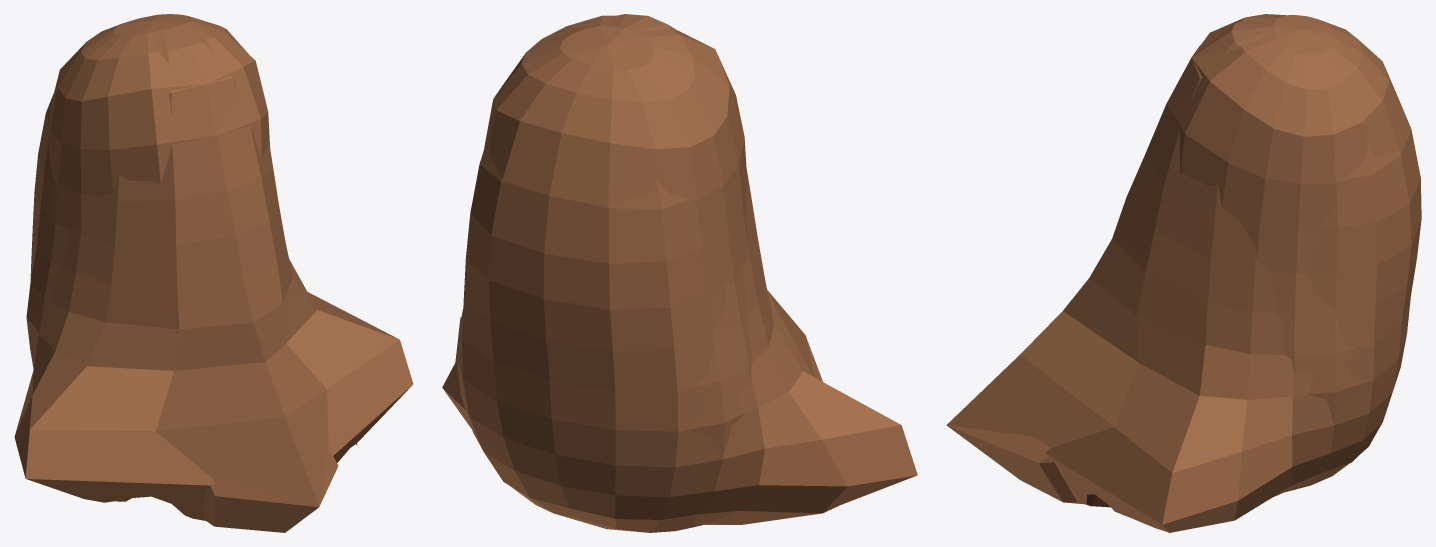
Rendered from JAM1_Nose.fbx.
3 views of the same model, side by side, from view 1: azimuth 30°, elevation 25°; view 2: azimuth 150°, elevation 25°; view 3: azimuth 270°, elevation 25° (orthographic). The views are drawn at different scales.
Visible parts, largest first — view 1: Nose_Sculpt; view 2: Nose_Sculpt; view 3: Nose_Sculpt.
Boxes of the visible parts, bbox=[...] form: Nose_Sculpt: bbox=[14, 14, 413, 532]; Nose_Sculpt: bbox=[442, 14, 917, 532]; Nose_Sculpt: bbox=[946, 14, 1421, 532].
Bounding box in the file's own units: 1629 × 1743 × 1597.
